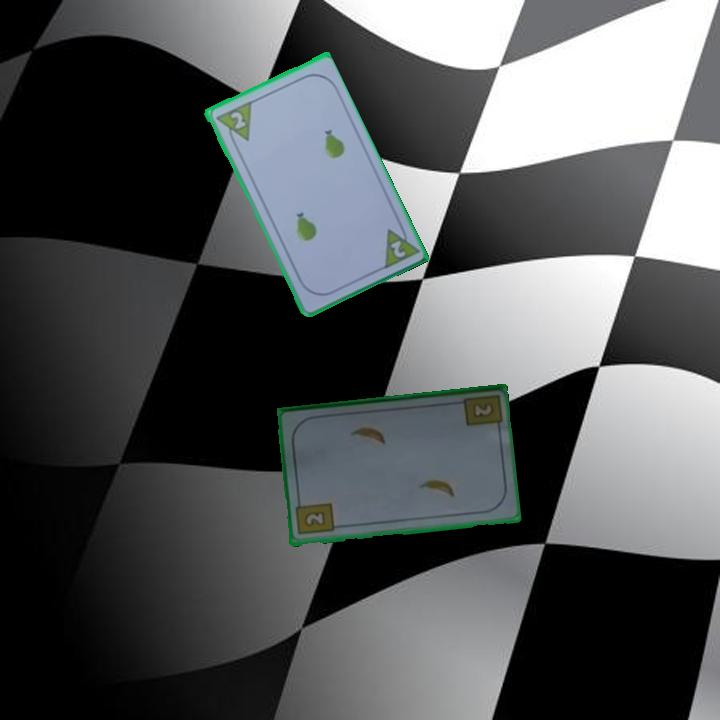2b: (292, 496, 336, 538), (469, 400, 494, 421)
2p: (226, 107, 248, 132), (386, 236, 408, 261)
